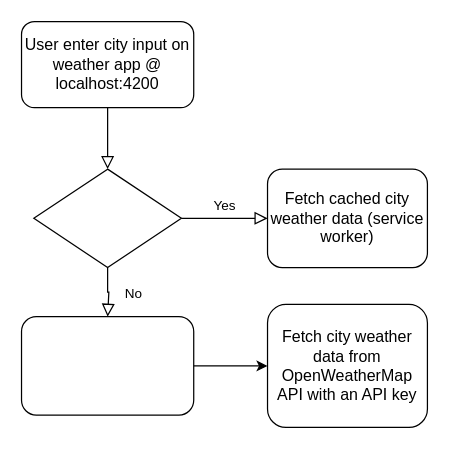
The diagram is 449 pixels wide and 449 high, and some of its shapes have lost their labels. Each missing label, with the centre of its shape:
Fetch Data from weather-predict-api @ /v1/weather/{city}: pixel 107 365
Offline mode?: pixel 107 218
